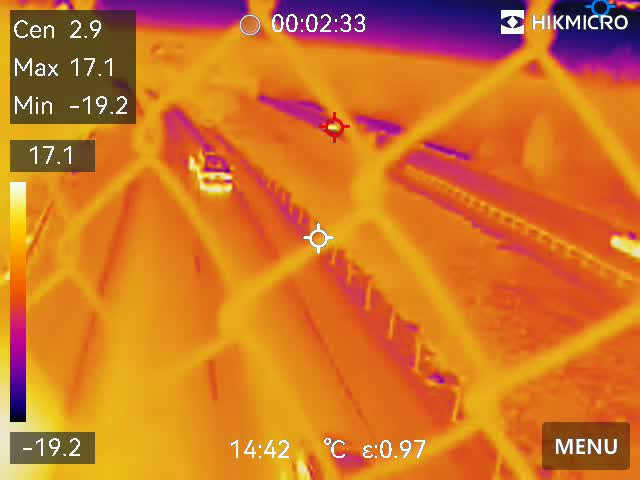vehicle: (181, 139, 240, 197), (609, 229, 640, 267)
